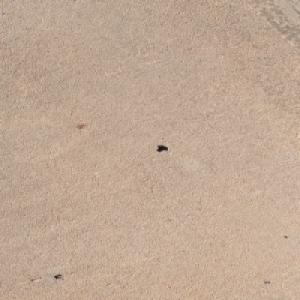BoltWasher: (156, 144, 165, 151)
